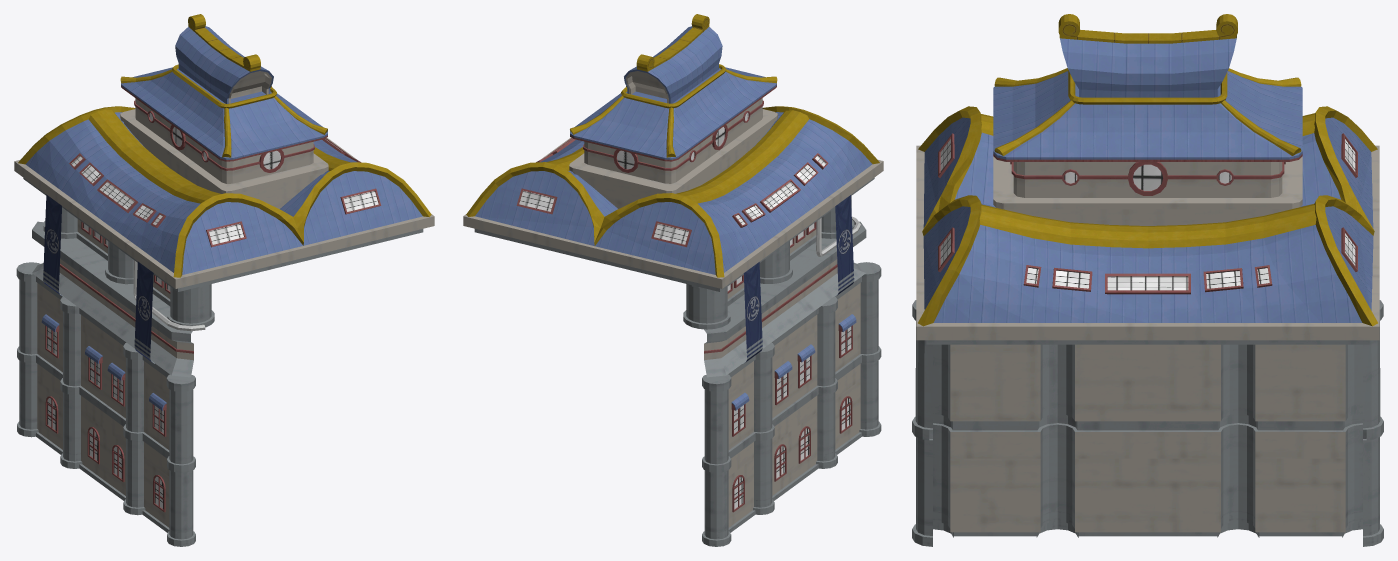
Rendered from REDUCTION_SM_ENV_KNVLLG_CommonBuilding_I_1.fbx.
3 views of the same model, side by side, from view 1: azimuth 30°, elevation 25°; view 2: azimuth 150°, elevation 25°; view 3: azimuth 270°, elevation 25° (orthographic). The views are drawn at different scales.
Visible parts, largest first — view 1: REDUCTION_SM_ENV_KNVLLG_CommonBuilding_I_1.mo; view 2: REDUCTION_SM_ENV_KNVLLG_CommonBuilding_I_1.mo; view 3: REDUCTION_SM_ENV_KNVLLG_CommonBuilding_I_1.mo.
Boxes of the visible parts, x1,y1,x2,y2 form: REDUCTION_SM_ENV_KNVLLG_CommonBuilding_I_1.mo: (14, 14, 434, 546); REDUCTION_SM_ENV_KNVLLG_CommonBuilding_I_1.mo: (463, 14, 883, 546); REDUCTION_SM_ENV_KNVLLG_CommonBuilding_I_1.mo: (912, 14, 1383, 546).
Size of the model in its own units: 4092 by 6324 by 4483.
